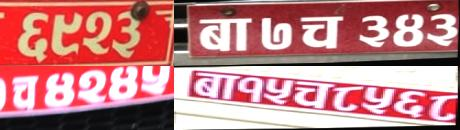0: (0, 75, 7, 114)
1: (233, 76, 266, 104)
2: (82, 6, 115, 65), (75, 69, 108, 106)
3: (112, 8, 145, 64), (354, 13, 392, 51), (424, 11, 460, 49)
4: (388, 11, 428, 50), (42, 72, 77, 111), (107, 66, 141, 103)
5: (140, 66, 172, 99), (357, 87, 394, 114), (260, 79, 292, 104)
6: (14, 8, 52, 66), (391, 90, 428, 118)
7: (256, 13, 296, 53)
8: (329, 86, 361, 112), (426, 96, 458, 122)
9: (48, 5, 86, 65)
ba: (193, 14, 257, 54), (189, 70, 239, 102)
cha: (294, 12, 348, 53), (289, 80, 333, 111), (9, 74, 40, 113)
